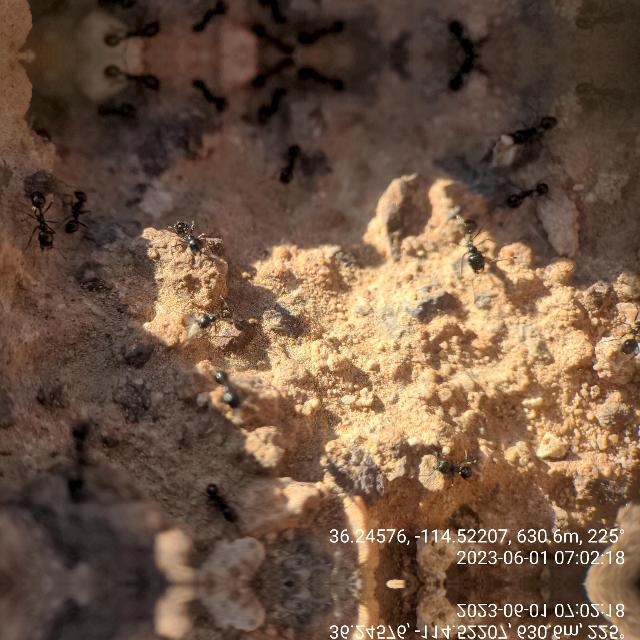Messor: (428, 430, 494, 486), (497, 102, 577, 146), (200, 284, 252, 346), (450, 210, 490, 280), (494, 175, 560, 217), (246, 77, 292, 131), (268, 130, 312, 186), (440, 54, 484, 110), (440, 0, 484, 56), (182, 63, 230, 114), (290, 63, 374, 91), (290, 19, 374, 47), (103, 58, 171, 92), (103, 18, 171, 52), (61, 182, 103, 236), (164, 215, 212, 262), (182, 0, 230, 47), (205, 478, 245, 532), (28, 181, 58, 249), (606, 310, 640, 370), (203, 362, 243, 410), (80, 88, 138, 120), (242, 54, 302, 80), (242, 30, 302, 56), (246, 0, 292, 33), (80, 0, 137, 22)
